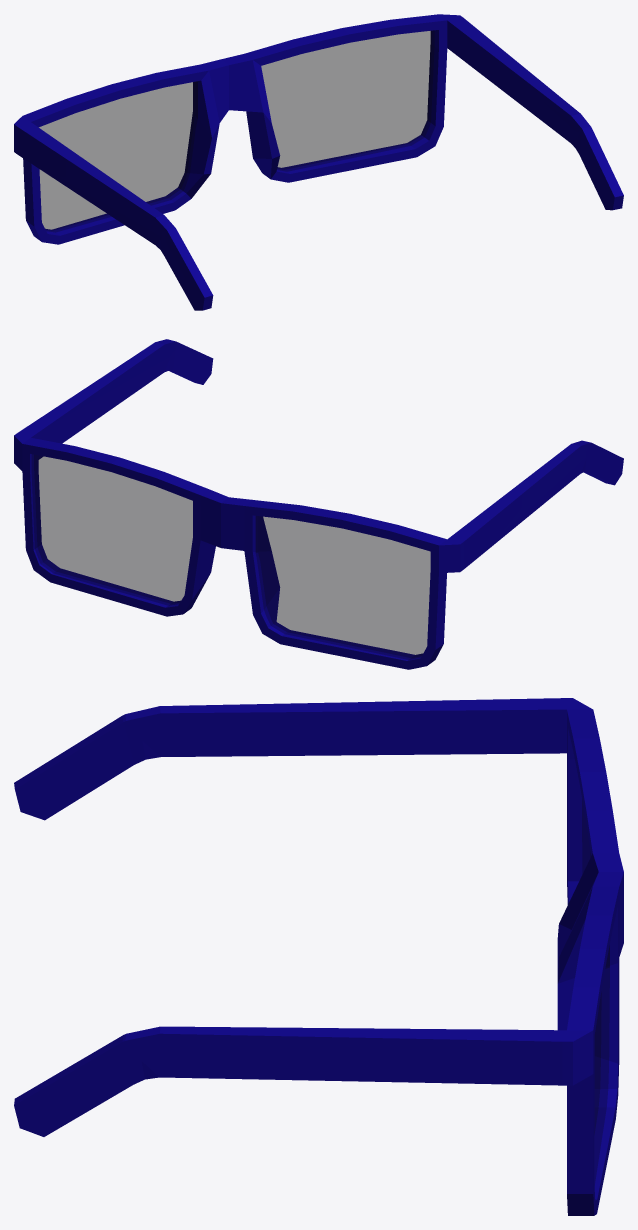
Rendered from gafasazul.fbx.
3 renders of one model, top to bottom at view 1: azimuth 30°, elevation 25°; view 2: azimuth 150°, elevation 25°; view 3: azimuth 270°, elevation 25°, orthographic. The views are drawn at different scales.
Visible parts, largest first — view 1: Sunglasses_Cube.001; view 2: Sunglasses_Cube.001; view 3: Sunglasses_Cube.001.
Boxes of the visible parts, x1,y1,x2,y2 form: Sunglasses_Cube.001: (14,14,623,310); Sunglasses_Cube.001: (14,339,623,669); Sunglasses_Cube.001: (14,698,623,1215).
Size of the model in its own units: 80.79 by 23.61 by 60.61.
